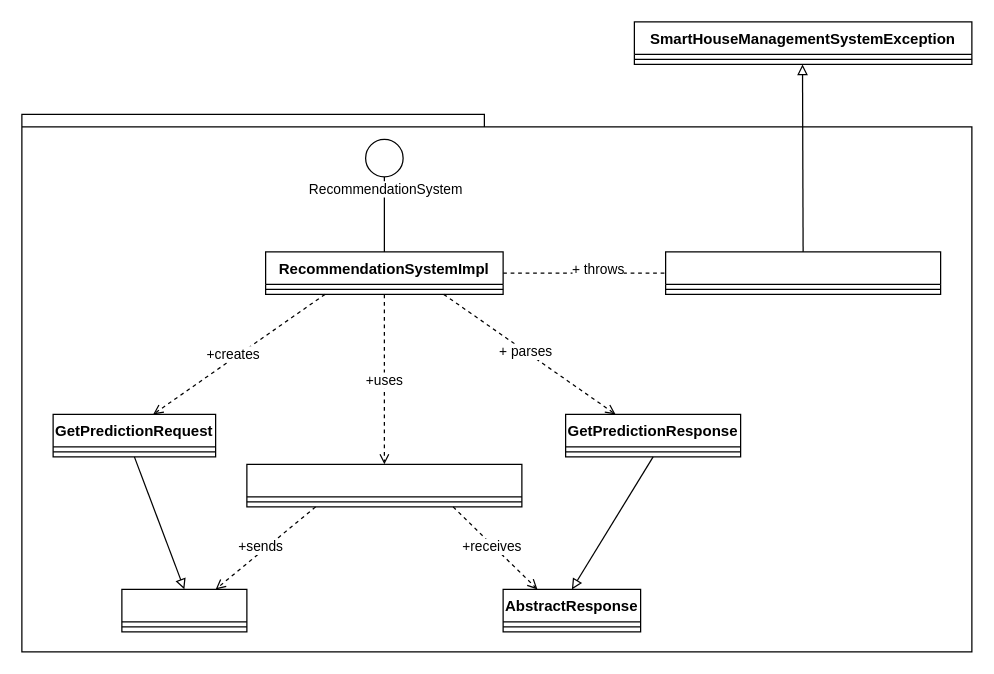
This 994x674 diagram has some shape labels left out. The centre of each missing label's shape, as x and y in pixels:
AbstractRequest: (184,610)
RecommendationSystemConnection: (384,485)
RecommendationSystemException: (802,272)
